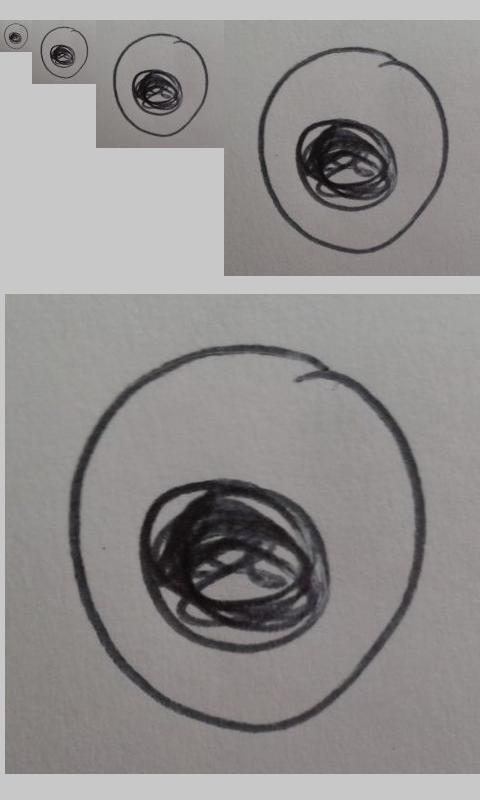radio_button: (68, 344, 427, 736), (257, 46, 449, 255), (112, 32, 210, 138), (40, 26, 88, 79), (3, 23, 29, 50)
